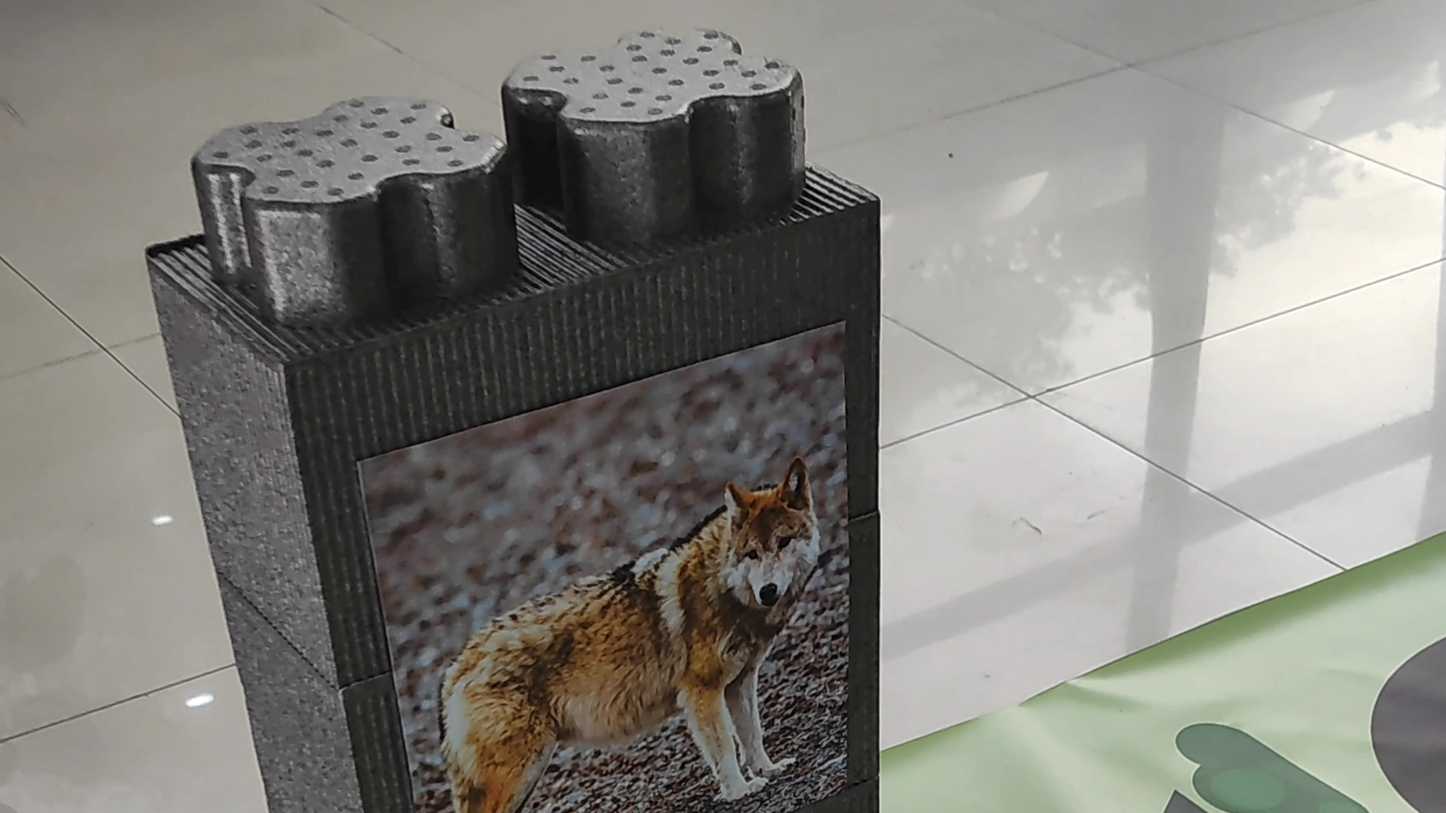wolf: (412, 452, 831, 810)
